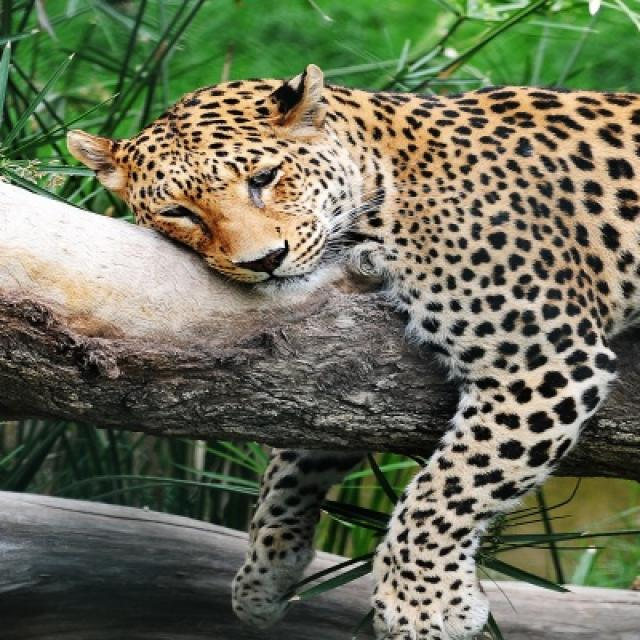Jaguar: (66, 66, 638, 638), (230, 451, 368, 630)
